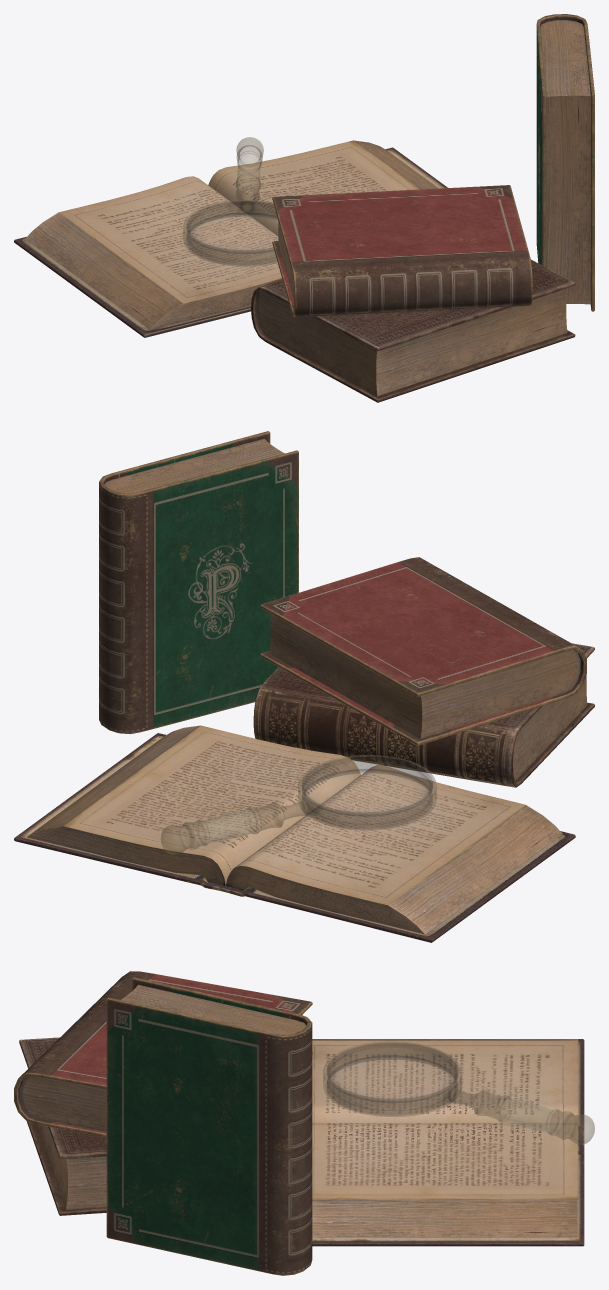
File: books_with_magnifier.glb
The picture shows the model from 3 angles, top to bottom: view 1: azimuth 30°, elevation 25°; view 2: azimuth 150°, elevation 25°; view 3: azimuth 270°, elevation 25°; orthographic projection. The views are drawn at different scales.
Parts seen in each view (by area): view 1: Open_book, Book_3, Book_1, Book_2, Magnifier; view 2: Open_book, Book_2, Book_3, Book_1, Magnifier; view 3: Open_book, Book_2, Book_3, Magnifier, Book_1.
Part boxes in pixels (x1,y1,x2,y2): Open_book: [14, 140, 447, 337]; Book_3: [272, 185, 532, 317]; Book_1: [251, 259, 575, 402]; Book_2: [536, 14, 594, 311]; Magnifier: [183, 137, 277, 266]; Open_book: [14, 725, 575, 942]; Book_2: [99, 431, 298, 733]; Book_3: [260, 557, 586, 745]; Book_1: [253, 643, 594, 787]; Magnifier: [161, 755, 436, 854]; Open_book: [312, 1039, 584, 1246]; Book_2: [106, 977, 312, 1275]; Book_3: [14, 971, 312, 1137]; Magnifier: [323, 1041, 594, 1144]; Book_1: [19, 1037, 106, 1215].
Size of the model in its own units: 0.4027 by 0.1928 by 0.4216.
5 materials, 5 textured.
